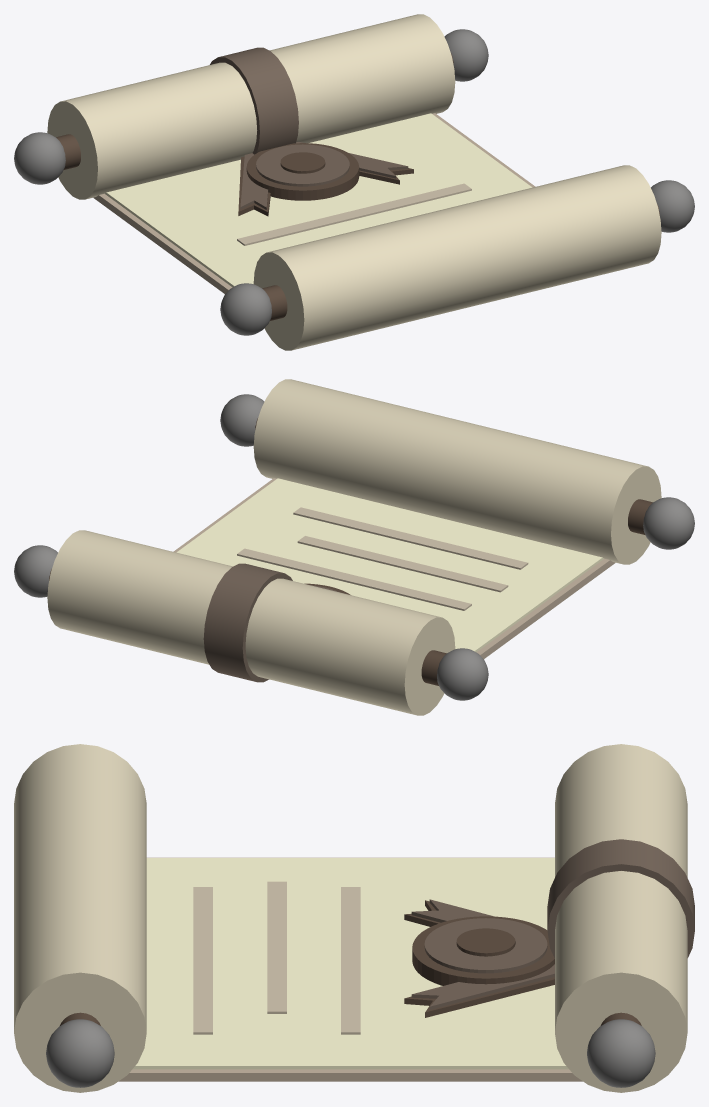
Rendered from book_pergaminho.fbx.
3 renders of one model, top to bottom at view 1: azimuth 30°, elevation 25°; view 2: azimuth 150°, elevation 25°; view 3: azimuth 270°, elevation 25°, orthographic. The views are drawn at different scales.
Visible parts, largest first — view 1: book_pergaminho_livro; view 2: book_pergaminho_livro; view 3: book_pergaminho_livro.
Boxes of the visible parts, left/top/right/bottom form: book_pergaminho_livro: left=14, top=14, right=694, bottom=350; book_pergaminho_livro: left=14, top=379, right=694, bottom=715; book_pergaminho_livro: left=14, top=744, right=694, bottom=1092.
Bounding box in the file's own units: 2.88 × 0.6 × 2.77.
Materials: 1 (1 with a texture image).
